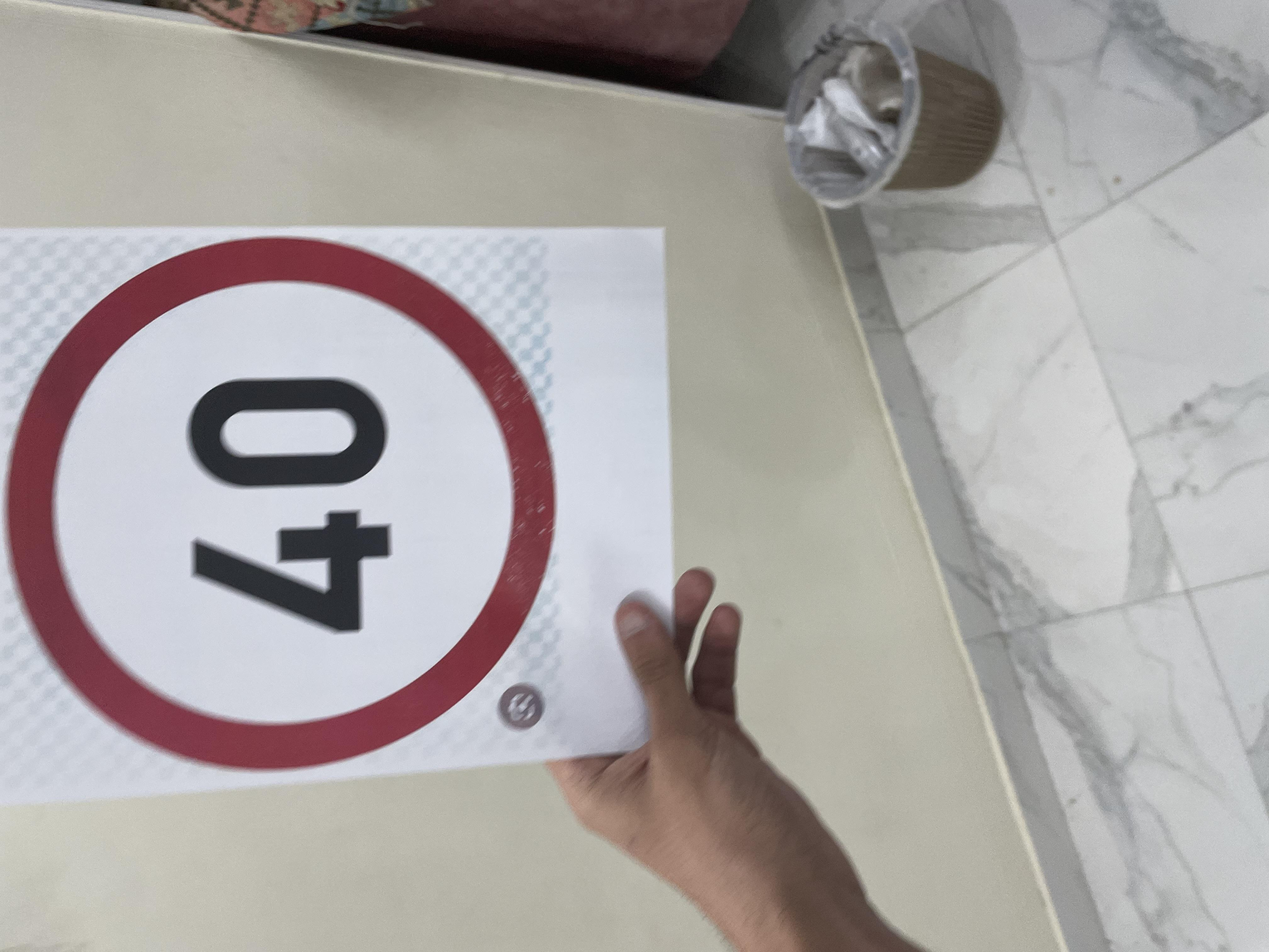40-Speed: (227, 12, 989, 419)
